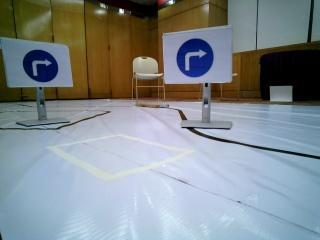right: (166, 36, 227, 79), (17, 42, 68, 89)
